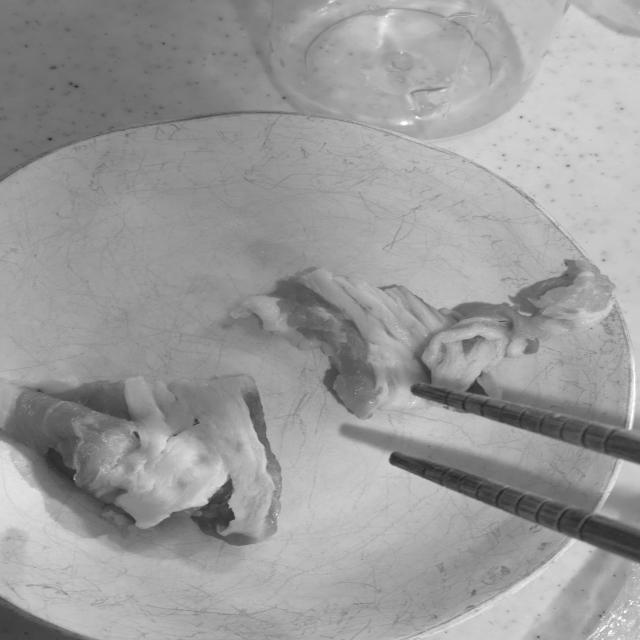NG raw pork,: (204, 255, 618, 429), (0, 370, 293, 556)
